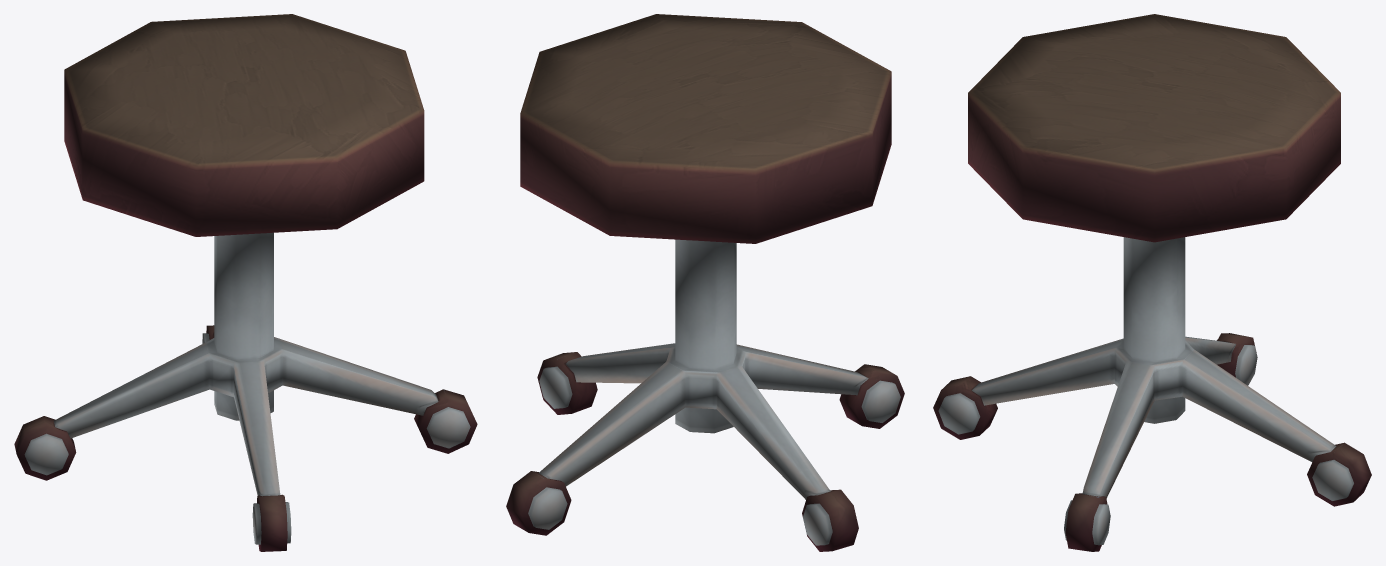
File: BanquinhoEscritorio.fbx
3 views of the same model, side by side, from view 1: azimuth 30°, elevation 25°; view 2: azimuth 150°, elevation 25°; view 3: azimuth 270°, elevation 25° (orthographic). The views are drawn at different scales.
Visible parts, largest first — view 1: BanquinhoEscritorio; view 2: BanquinhoEscritorio; view 3: BanquinhoEscritorio.
Boxes of the visible parts, left/top/right/bottom form: BanquinhoEscritorio: left=14, top=14, right=477, bottom=551; BanquinhoEscritorio: left=506, top=14, right=904, bottom=551; BanquinhoEscritorio: left=933, top=14, right=1371, bottom=551.
Bounding box in the file's own units: 0.536 × 0.5158 × 0.5305.
